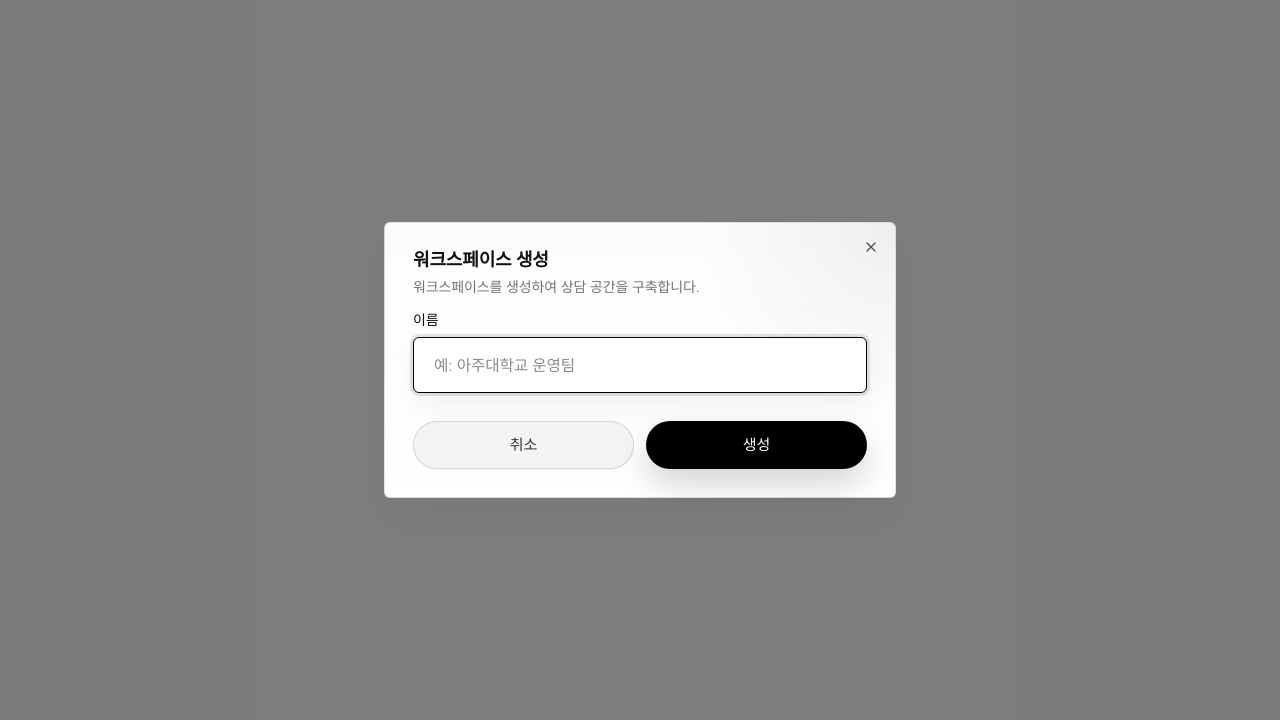
Test case: CreateWorkspaceDialog › 서버 이름 검증 오류는 name field error로 표시한다
Step 1. Type "Support Team" into the field labelled "이름" → point(640, 365), box [413,337,867,393]
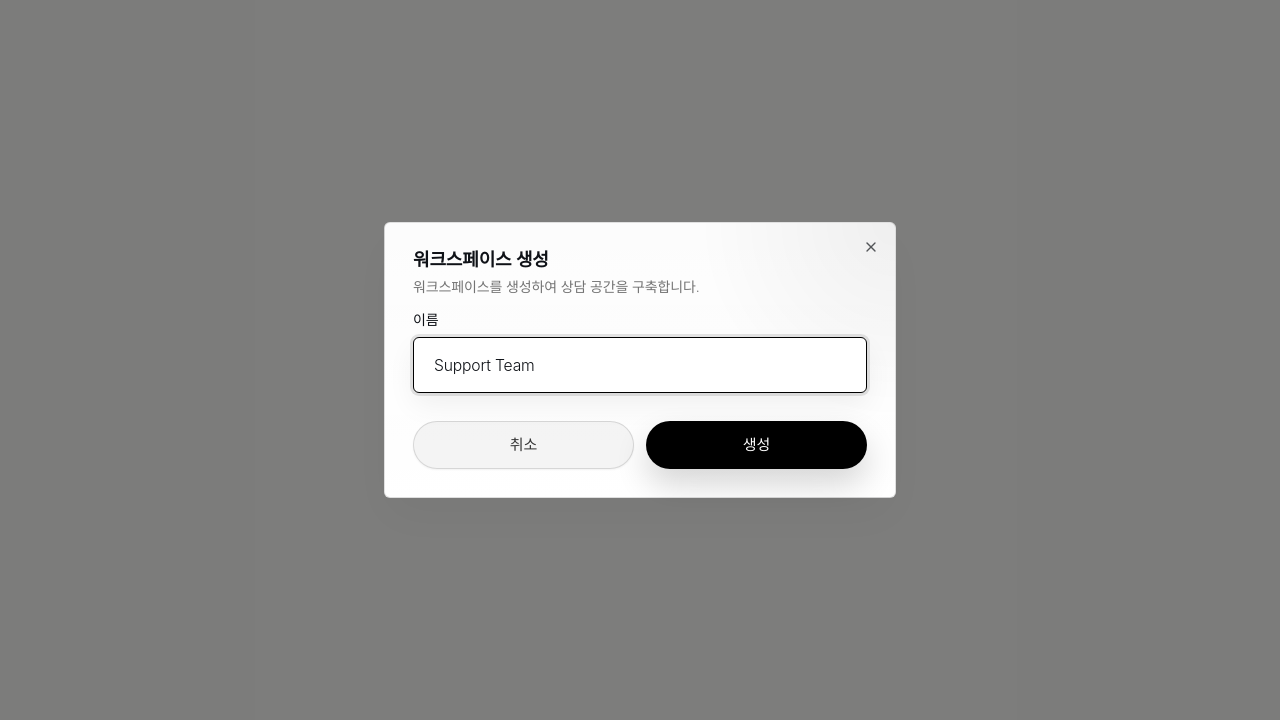
Step 2. Click the button "생성" → point(756, 445), box [646,421,867,469]
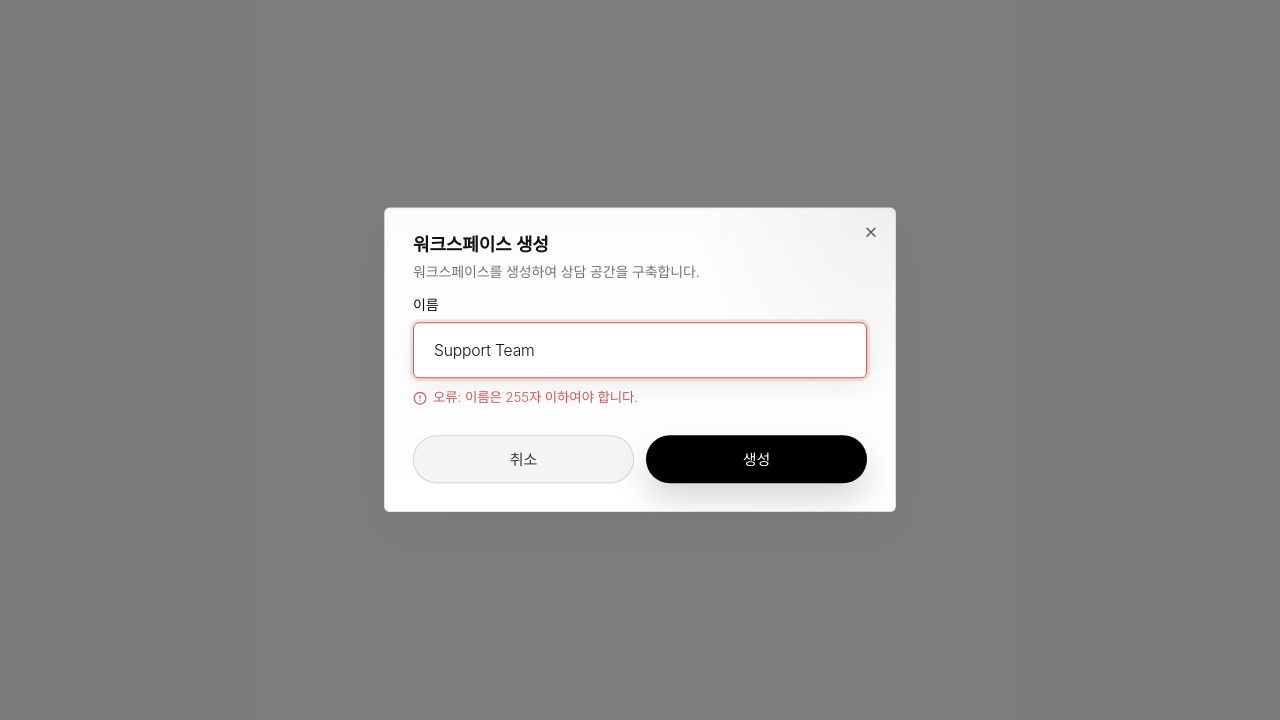
expect the message shows "이름은 255자 이하여야 합니다.": met, box [465,389,638,405]
